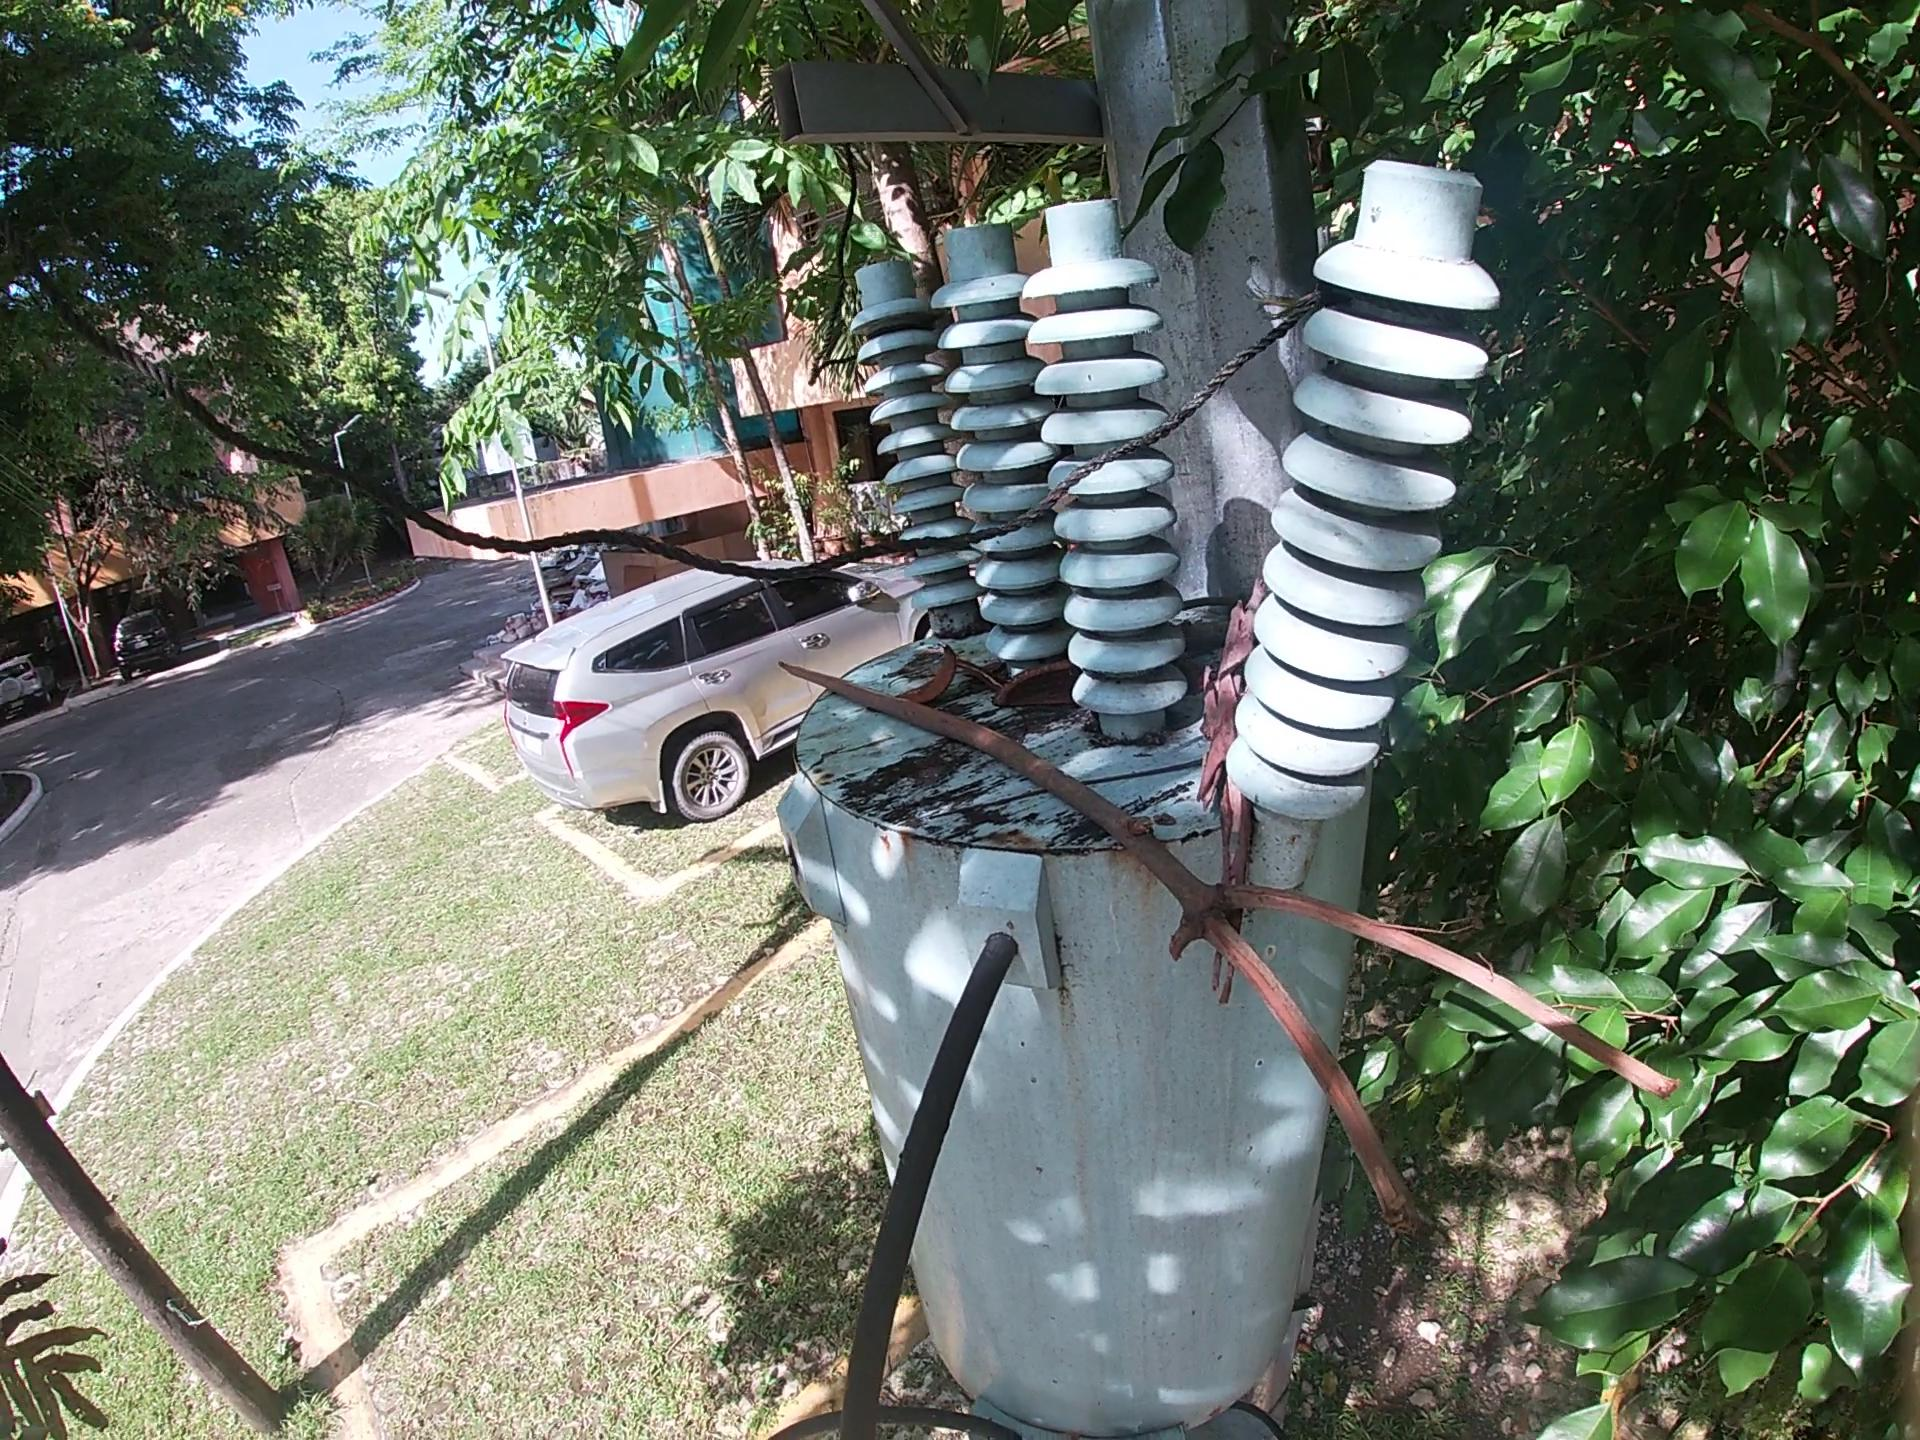mahogany fruit: (977, 667, 1079, 722), (906, 650, 965, 697), (1178, 656, 1222, 705)
tree branch: (766, 664, 1677, 1249), (1200, 523, 1264, 1041), (875, 758, 1200, 838), (1179, 616, 1250, 661), (1178, 591, 1250, 614), (965, 659, 1005, 688)
